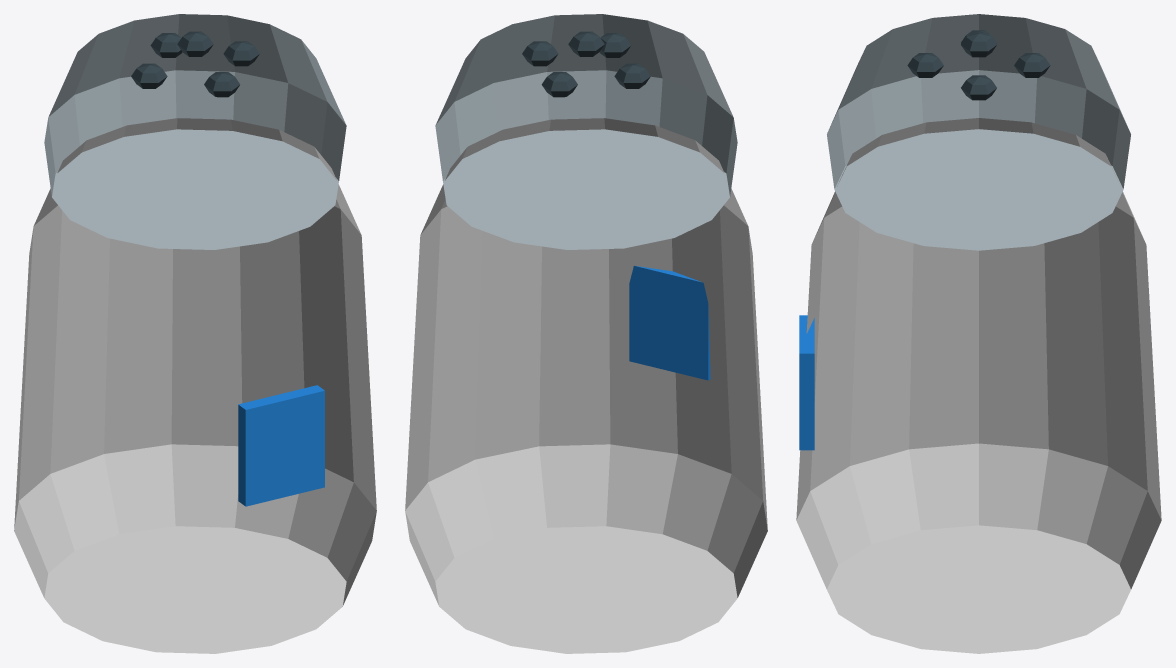
Rendered from saltkar.glb.
3 views of the same model, side by side, from view 1: azimuth 30°, elevation 25°; view 2: azimuth 150°, elevation 25°; view 3: azimuth 270°, elevation 25° (orthographic).
Visible parts, largest first — view 1: saltkar; view 2: saltkar; view 3: saltkar.
Part boxes in pixels (left/top/right/bottom): saltkar: left=14, top=14, right=376, bottom=653; saltkar: left=405, top=14, right=767, bottom=653; saltkar: left=796, top=14, right=1161, bottom=653.
Bounding box in the file's own units: 0.24 × 0.403 × 0.24.
